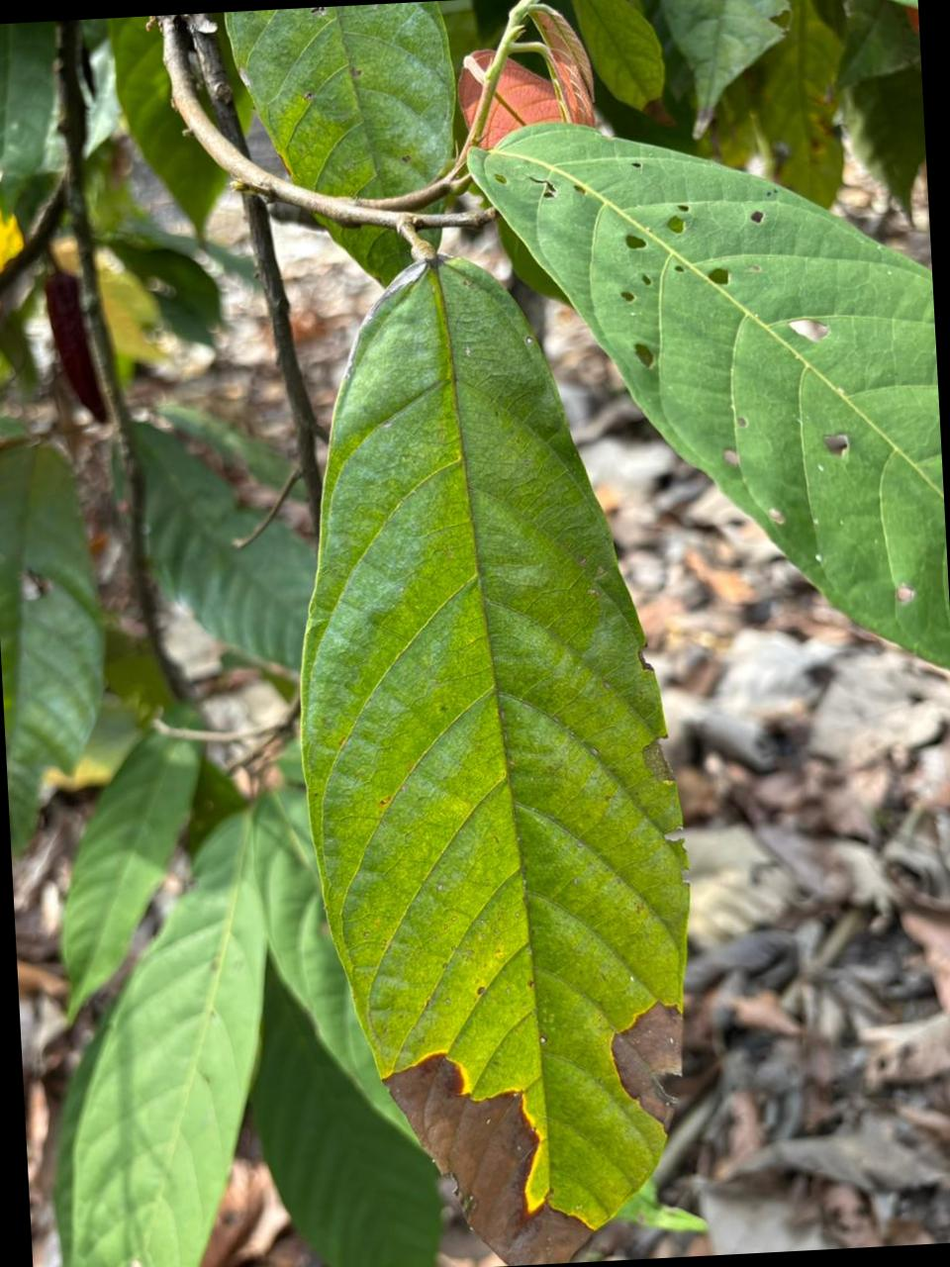Potasio: (302, 259, 688, 1265)
